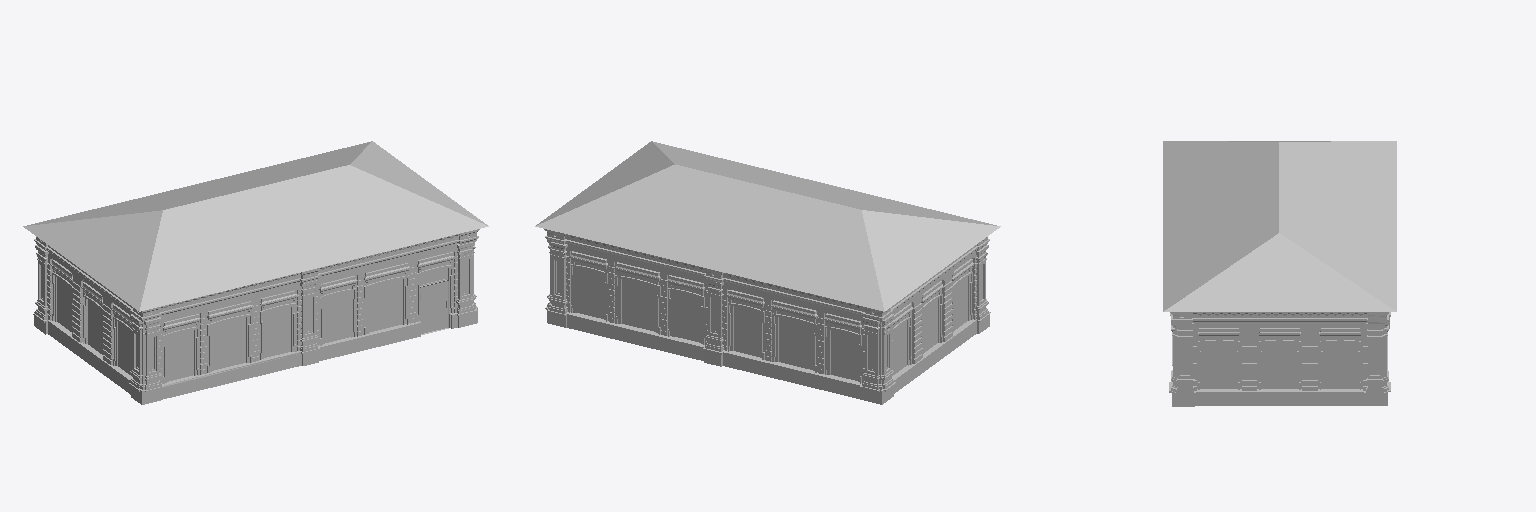
File: lavka.obj
The picture shows the model from 3 angles: view 1: azimuth 30°, elevation 25°; view 2: azimuth 150°, elevation 25°; view 3: azimuth 270°, elevation 25°; orthographic projection.
Parts seen in each view (by area): view 1: Cube; view 2: Cube; view 3: Cube.
Boxes of the visible parts, x1,y1,x2,y2 form: Cube: [23, 141, 488, 404]; Cube: [535, 141, 1000, 404]; Cube: [1163, 141, 1396, 406].
Size of the model in its own units: 180 by 67.6 by 104.